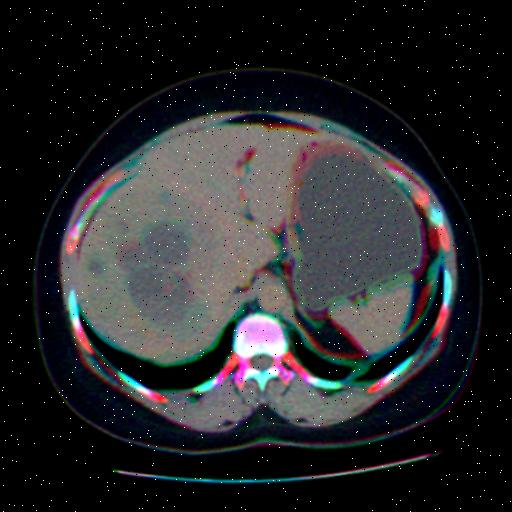Tumor: (113, 222, 190, 325)
